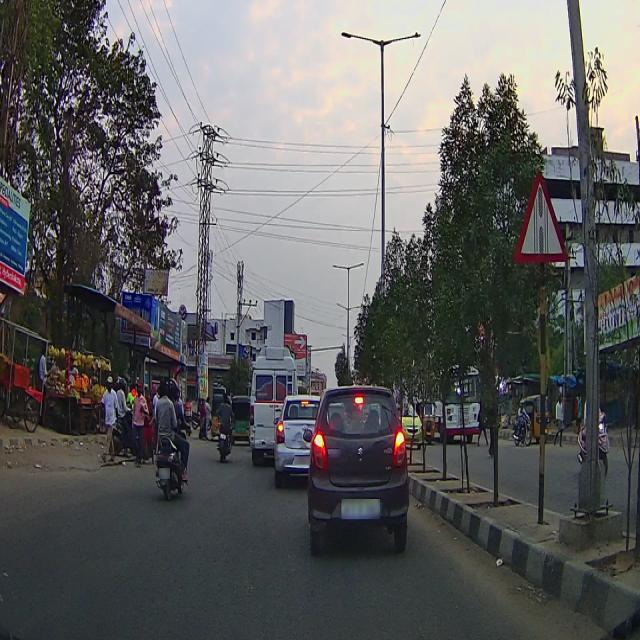gap-in-median: (520, 168, 568, 280)
